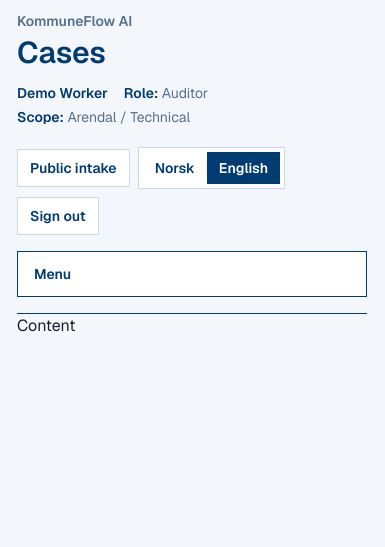
Test: InternalShell navigation › exposes an accessible mobile disclosure
This screenshot has width=385, height=547.
Click the button "Menu" at (53, 274), box [17,251,367,297]
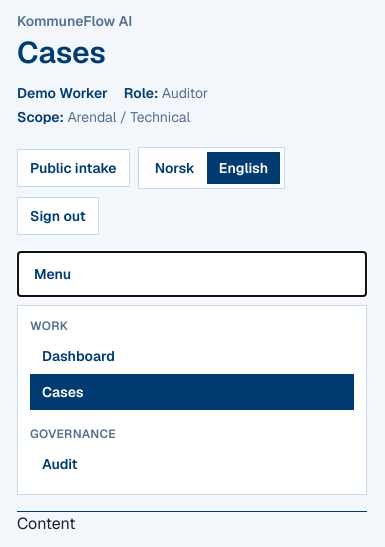
Expected: the navigation bar named "Internal mobile" is shown, [17,305,367,495]
